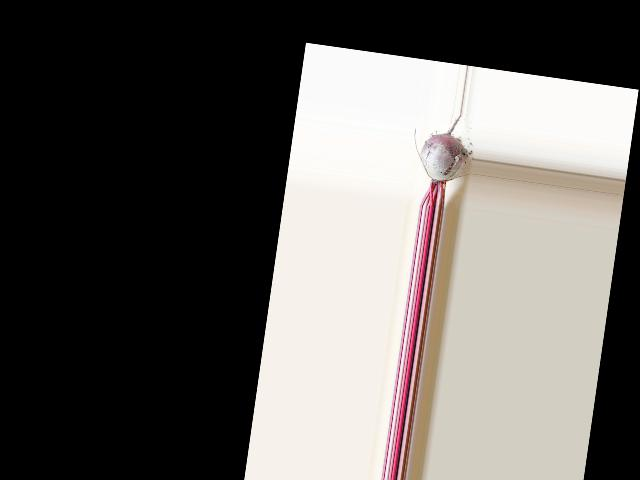beet: (404, 108, 473, 210)
